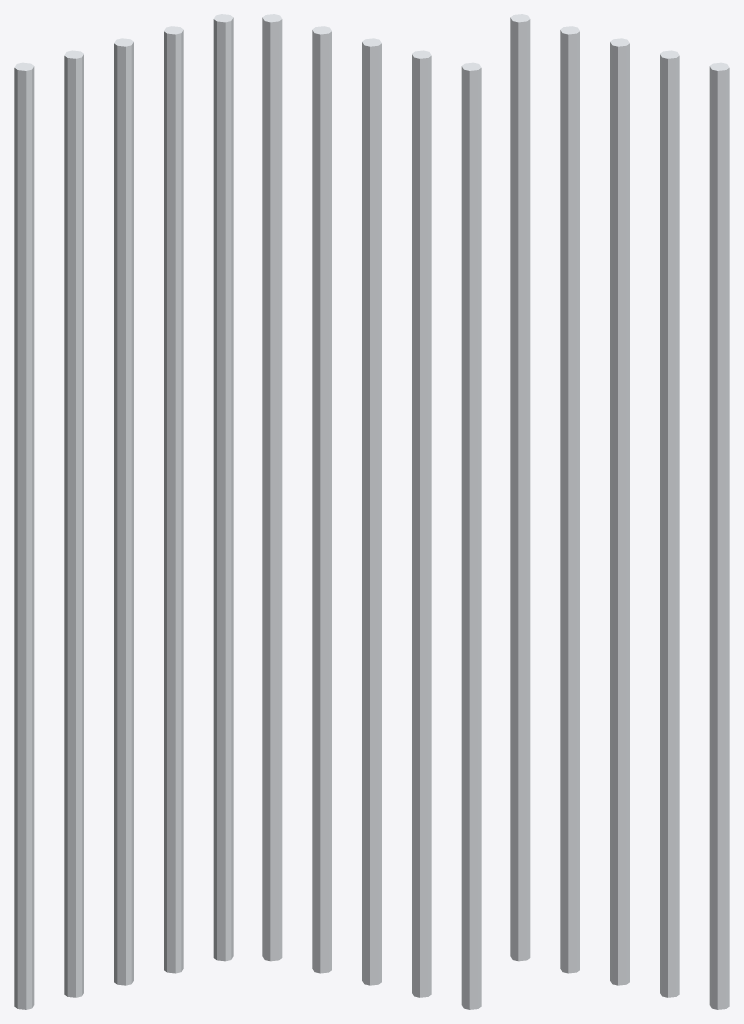
The model's file is fgr_fur_guitar_strings.fbx.
The picture shows the model from 3 angles, left to right: view 1: azimuth 30°, elevation 25°; view 2: azimuth 150°, elevation 25°; view 3: azimuth 330°, elevation 25°; orthographic projection.
Parts seen in each view (by area): view 1: fgr_fur_guitar_strings; view 2: fgr_fur_guitar_strings; view 3: fgr_fur_guitar_strings.
Boxes of the visible parts, left/top/right/bottom form: fgr_fur_guitar_strings: left=14, top=14, right=233, bottom=1009; fgr_fur_guitar_strings: left=262, top=14, right=481, bottom=1009; fgr_fur_guitar_strings: left=510, top=14, right=729, bottom=1009.
Size of the model in its own units: 1544 by 6419 by 119.
1 material, 1 textured.
